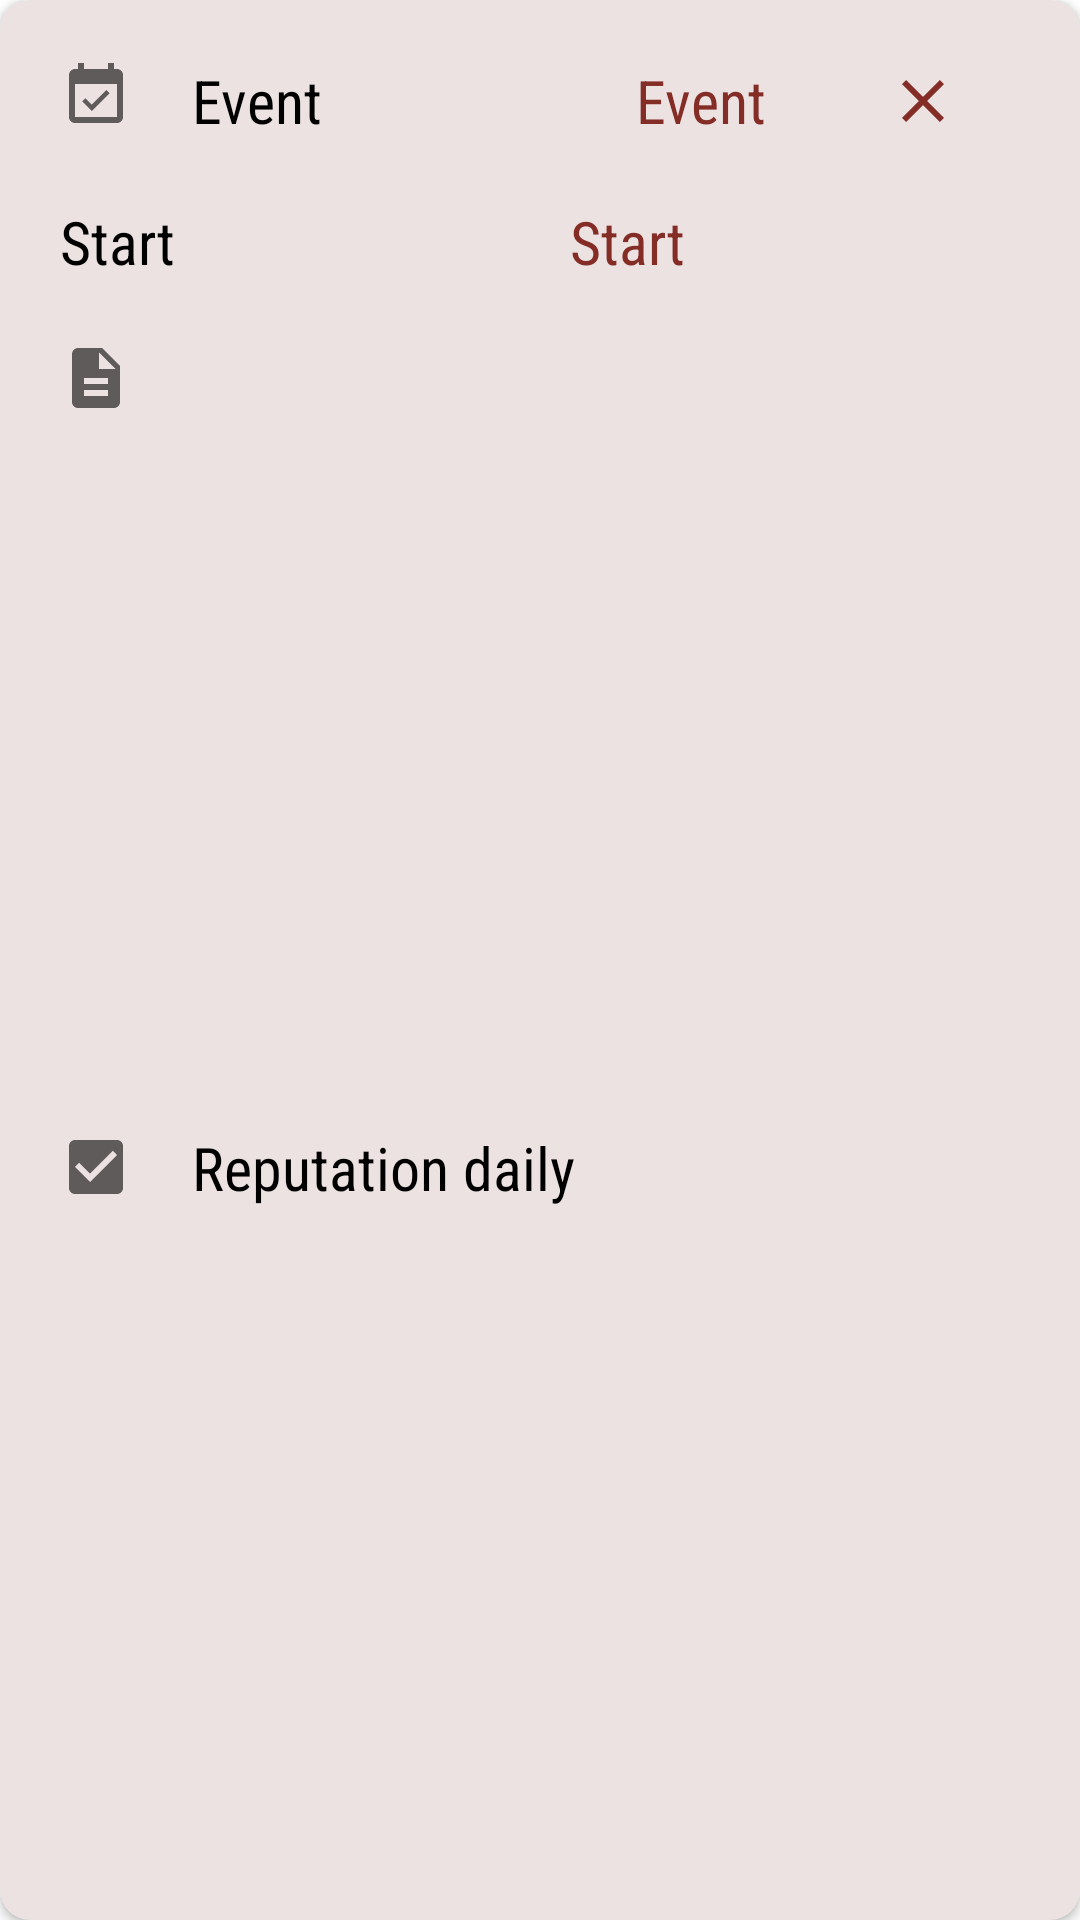

Named icons in this screenshot (1080 x 1920) and their centers, (x,y):
description: (96,378)
